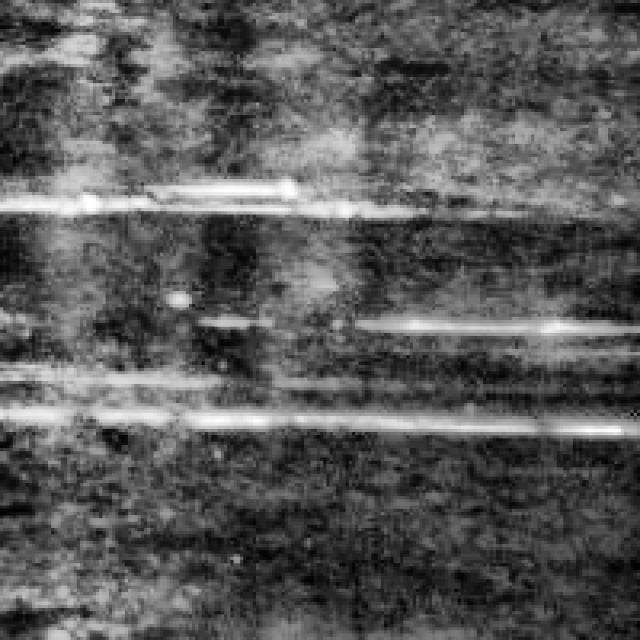Inclusion: (0, 374, 630, 451), (0, 170, 483, 224), (355, 300, 627, 340)
